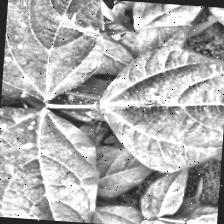Bean Rust: (99, 48, 224, 174), (0, 105, 105, 223), (1, 0, 108, 99)
